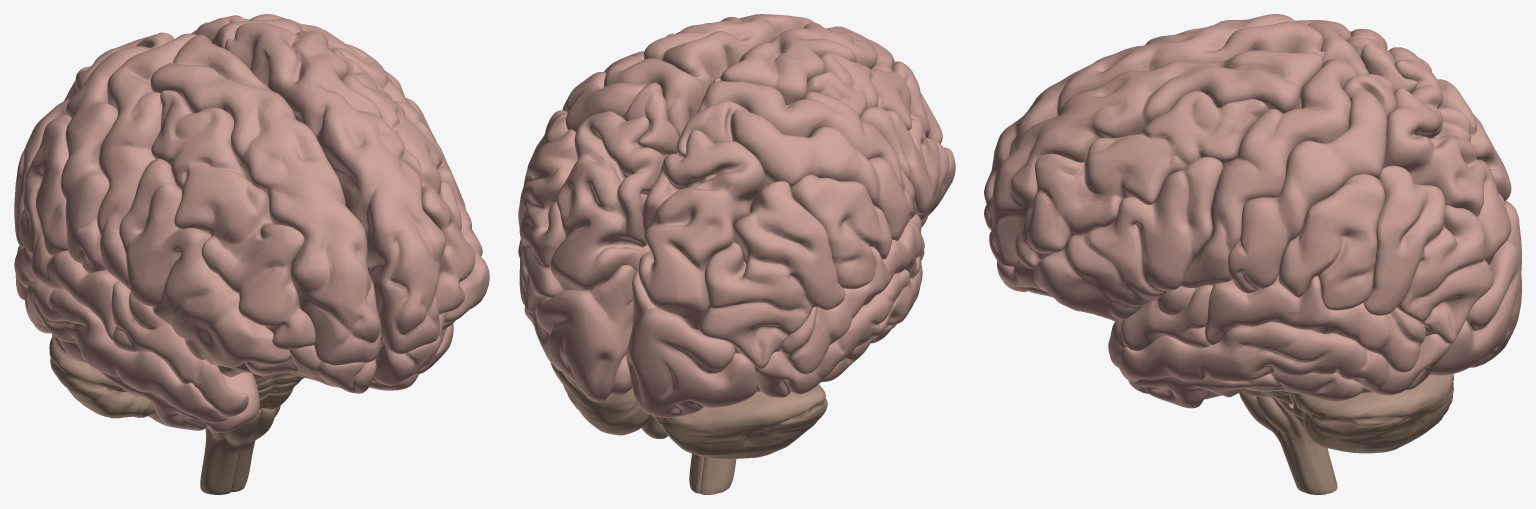
Rendered from brain.glb.
The picture shows the model from 3 angles, left to right: view 1: azimuth 30°, elevation 25°; view 2: azimuth 150°, elevation 25°; view 3: azimuth 270°, elevation 25°; orthographic projection. The views are drawn at different scales.
Visible parts, largest first — view 1: FMA72653, FMA72654, FMA72655, FMA72701, FMA72661, FMA72665, FMA72685, FMA72656, FMA72800, BP51, FMA72667, FMA72804 (+9 smaller); view 2: FMA72669, BP50, BP49, FMA72975, FMA67944, FMA72665, FMA72976, FMA72653, FMA72667, FMA72661, FMA72670, FMA72654 (+10 smaller); view 3: FMA72654, FMA72656, FMA72702, FMA72670, FMA72686, FMA72666, FMA72662, FMA72653, FMA72668, BP49, FMA72805, FMA67944 (+8 smaller).
Boxes of the visible parts, left/top/right/bottom form: FMA72653: left=150, top=35, right=381, bottom=365; FMA72654: left=224, top=22, right=445, bottom=353; FMA72655: left=151, top=90, right=315, bottom=349; FMA72701: left=119, top=158, right=291, bottom=367; FMA72661: left=97, top=33, right=197, bottom=289; FMA72665: left=60, top=32, right=174, bottom=272; FMA72685: left=25, top=280, right=227, bottom=423; FMA72656: left=332, top=48, right=475, bottom=314; FMA72800: left=111, top=281, right=248, bottom=416; BP51: left=217, top=312, right=455, bottom=393; FMA72667: left=19, top=114, right=71, bottom=255; FMA72804: left=14, top=232, right=118, bottom=340; FMA72669: left=699, top=181, right=845, bottom=368; BP50: left=638, top=129, right=766, bottom=330; BP49: left=550, top=111, right=664, bottom=290; FMA72975: left=626, top=269, right=756, bottom=417; FMA67944: left=550, top=363, right=827, bottom=458; FMA72665: left=676, top=100, right=913, bottom=240; FMA72976: left=533, top=265, right=635, bottom=402; FMA72653: left=713, top=22, right=895, bottom=104; FMA72667: left=790, top=174, right=891, bottom=289; FMA72661: left=697, top=81, right=916, bottom=218; FMA72670: left=518, top=129, right=577, bottom=313; FMA72654: left=643, top=14, right=814, bottom=96; FMA72654: left=984, top=50, right=1324, bottom=266; FMA72656: left=1015, top=91, right=1268, bottom=269; FMA72702: left=1033, top=156, right=1222, bottom=320; FMA72670: left=1364, top=165, right=1493, bottom=343; FMA72686: left=1117, top=322, right=1448, bottom=395; FMA72666: left=1228, top=74, right=1398, bottom=293; FMA72662: left=1181, top=59, right=1357, bottom=288; FMA72653: left=984, top=14, right=1324, bottom=204; FMA72668: left=1278, top=174, right=1385, bottom=310; BP49: left=1383, top=88, right=1511, bottom=264; FMA72805: left=1205, top=275, right=1425, bottom=372; FMA67944: left=1290, top=374, right=1453, bottom=453.
Bounding box in the file's own units: 2.59 × 3.04 × 3.3.
